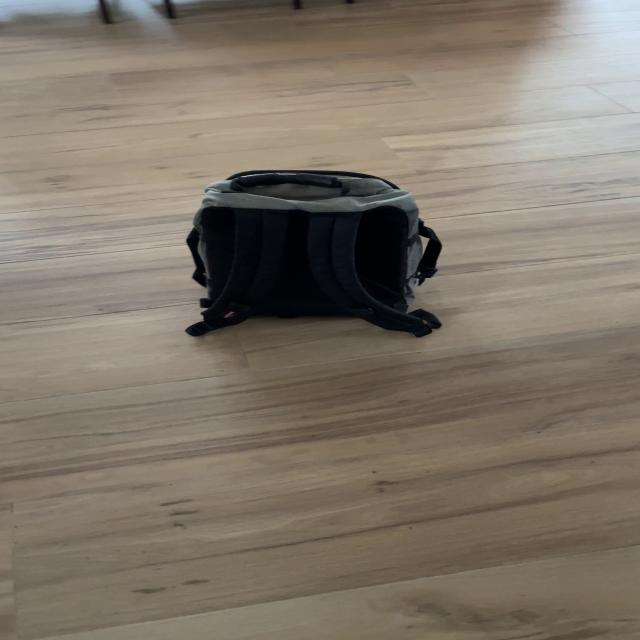backpack: (172, 161, 452, 341)
